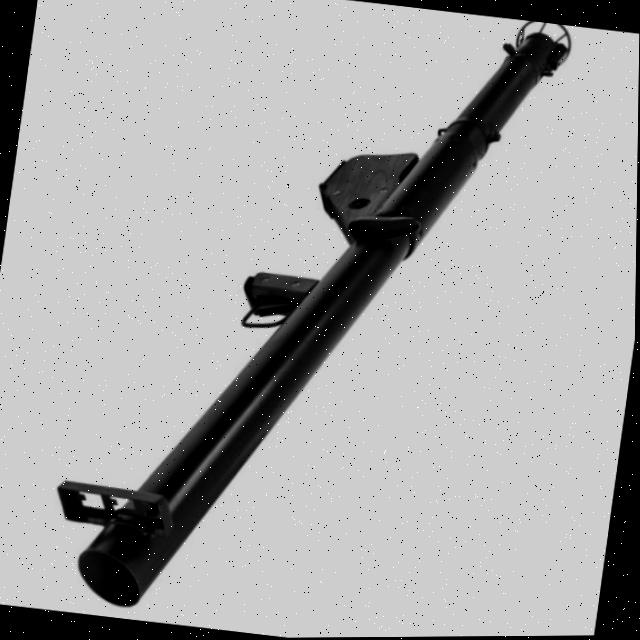rocket: (48, 0, 606, 640)
